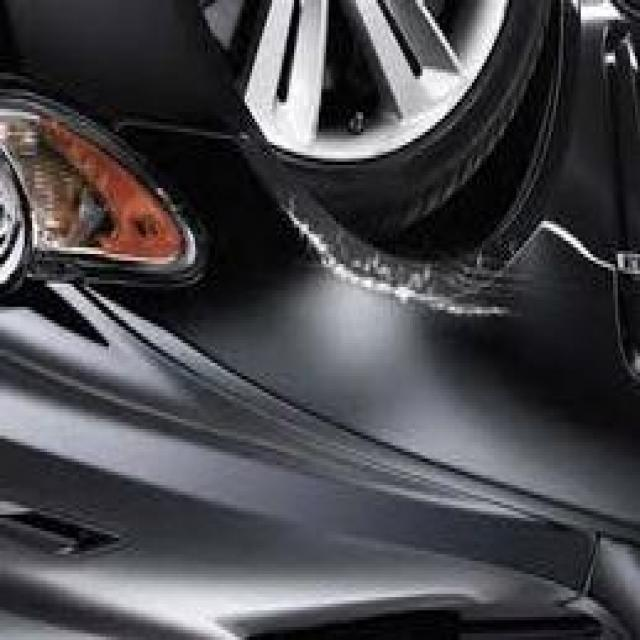scratch: (272, 174, 548, 368)
